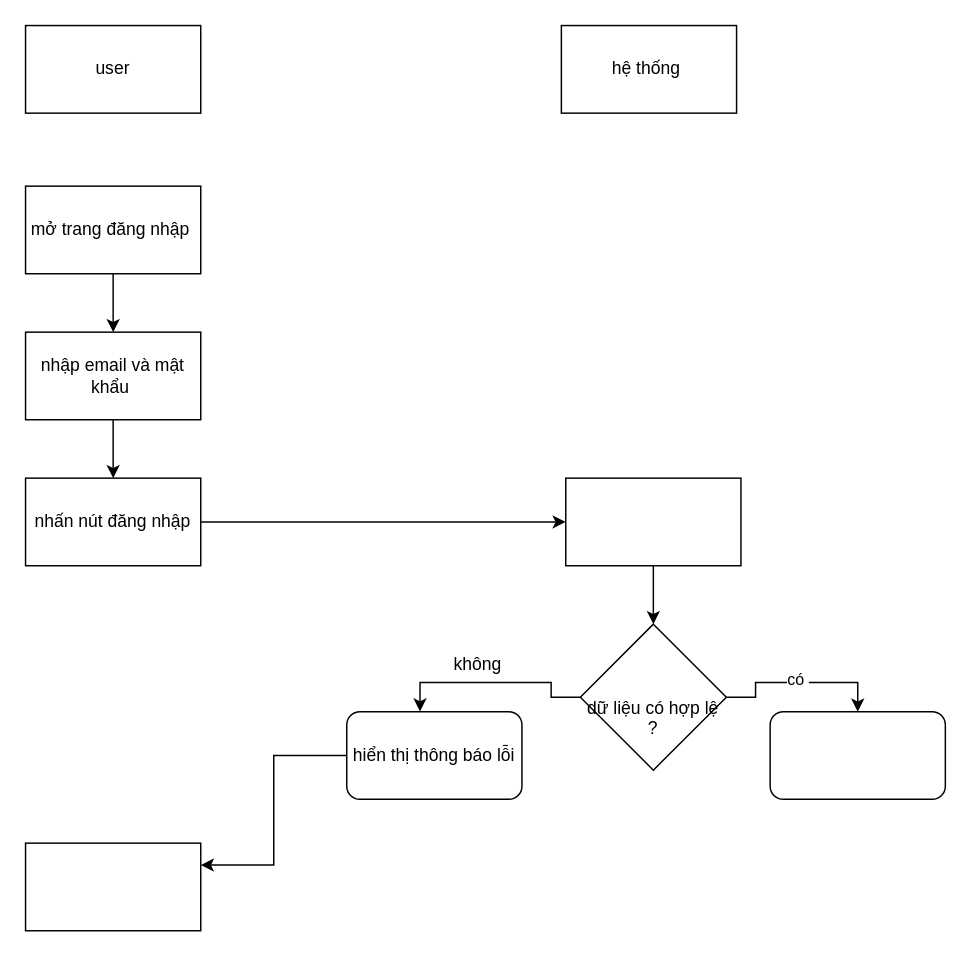
Some shapes in this 971 by 956 pixel diagram are drawn without their labels. The shapes that lost their labels are listed below. From the top down, each one's centre as x and y in pixels, then its label:
(x=652, y=521): kiểm tra dữ liệu đầu vào
(x=857, y=754): kiểm tra tài khoản trong cơ sở dữ liệu
(x=112, y=886): hiển thị lỗi và yêu cầu đăng nhập lại
